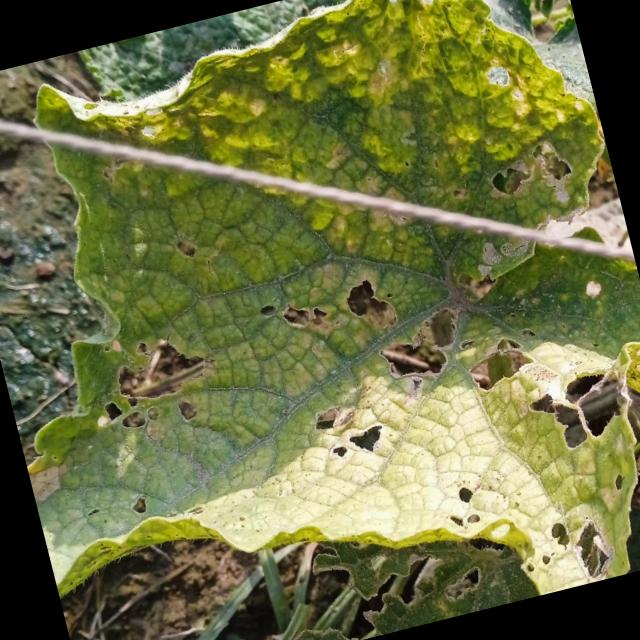cucumber_anthracnose: (69, 209, 640, 640), (42, 2, 597, 312)
